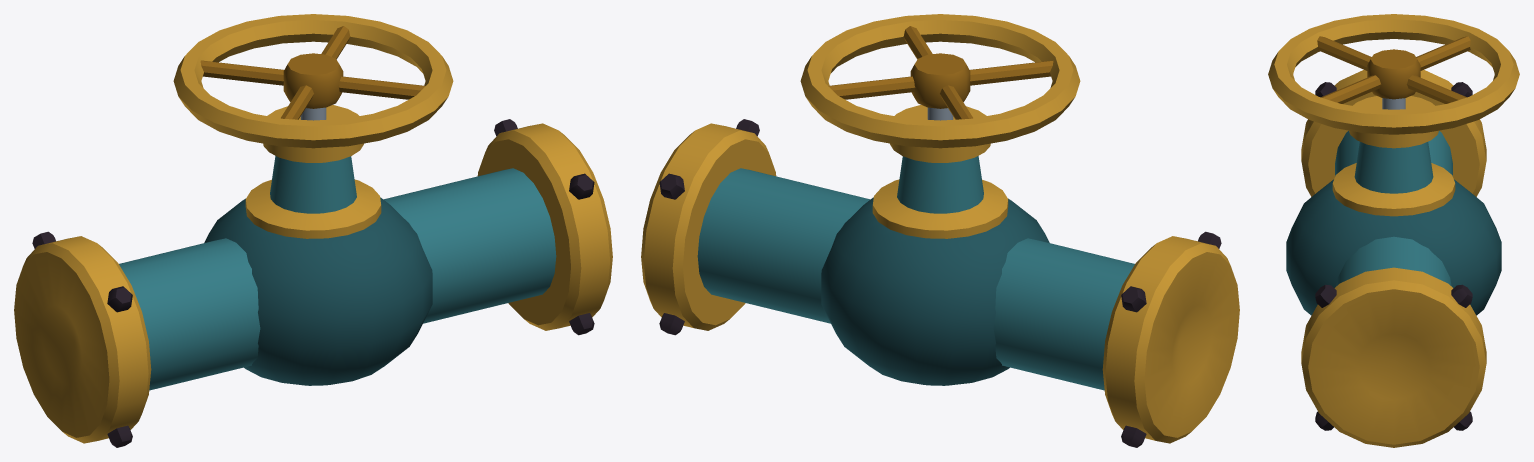
File: Valve_26.glb
3 renders of one model, left to right at view 1: azimuth 30°, elevation 25°; view 2: azimuth 150°, elevation 25°; view 3: azimuth 270°, elevation 25°, orthographic. The views are drawn at different scales.
Visible parts, largest first — view 1: Valve_26; view 2: Valve_26; view 3: Valve_26.
Part boxes in pixels (bbox=[...]): Valve_26: bbox=[14, 14, 612, 447]; Valve_26: bbox=[641, 14, 1239, 447]; Valve_26: bbox=[1268, 14, 1519, 447].
Bounding box in the file's own units: 3.13 × 1.86 × 1.51.
